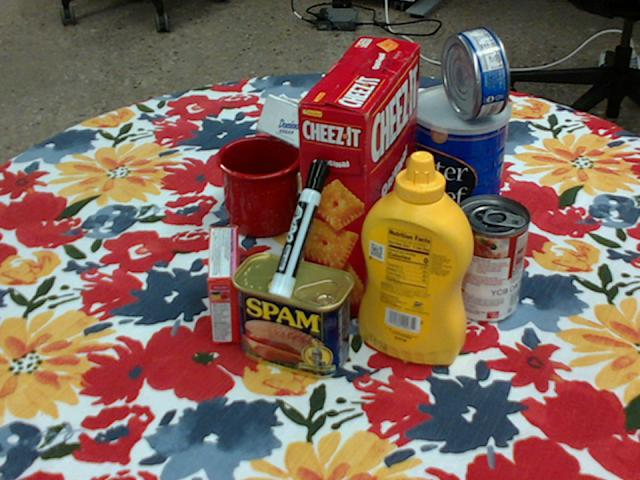cracker_box: (296, 35, 421, 317)
gelatin_box: (208, 225, 240, 342)
large_marker: (269, 157, 329, 298)
master_chef_can: (406, 84, 510, 247)
mug: (217, 135, 328, 238)
mustard_bottle: (358, 150, 474, 365)
potted_meat_can: (233, 252, 355, 378)
sugar_box: (258, 94, 414, 185)
tomato_soup_can: (449, 195, 530, 323)
tuna_fish_can: (440, 27, 510, 119)
